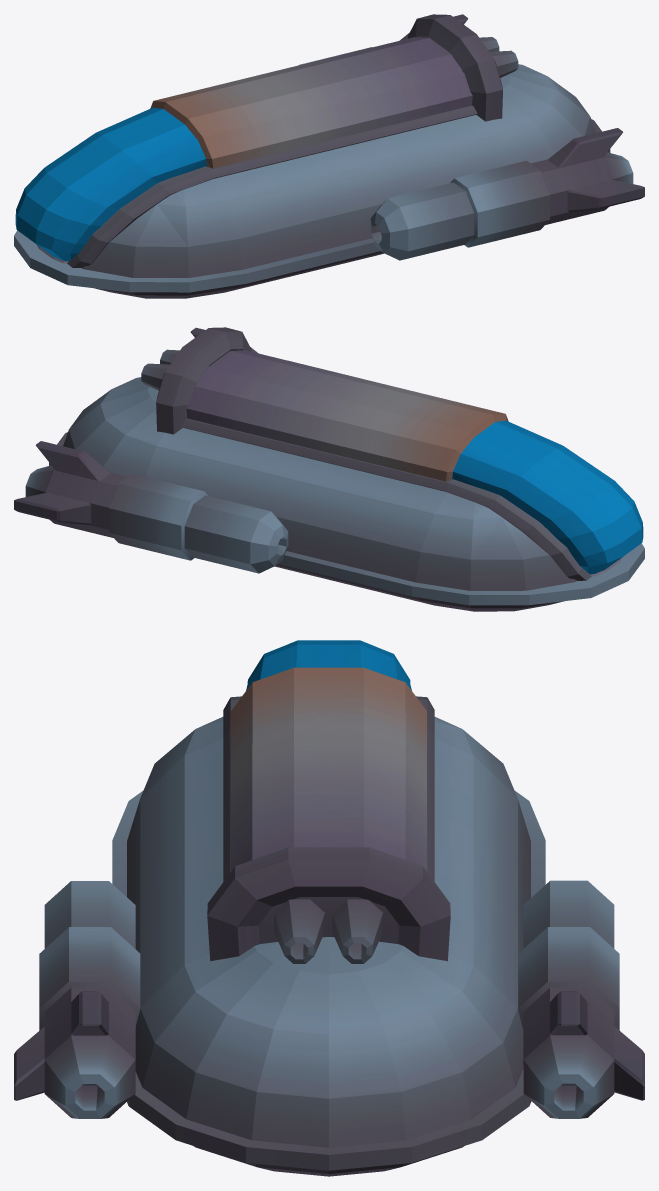
File: monument_desert_vehicleonly.glb
3 views of the same model, one above another, from view 1: azimuth 30°, elevation 25°; view 2: azimuth 150°, elevation 25°; view 3: azimuth 270°, elevation 25° (orthographic). The views are drawn at different scales.
Visible parts, largest first — view 1: Monument_planet_Colors_emissive_0.001; view 2: Monument_planet_Colors_emissive_0.001; view 3: Monument_planet_Colors_emissive_0.001.
Boxes of the visible parts, bbox=[...] form: Monument_planet_Colors_emissive_0.001: bbox=[14, 14, 644, 298]; Monument_planet_Colors_emissive_0.001: bbox=[14, 327, 644, 611]; Monument_planet_Colors_emissive_0.001: bbox=[14, 640, 644, 1176].
Bounding box in the file's own units: 8.3 × 2.49 × 5.17.
Materials: 2 (2 with a texture image).
